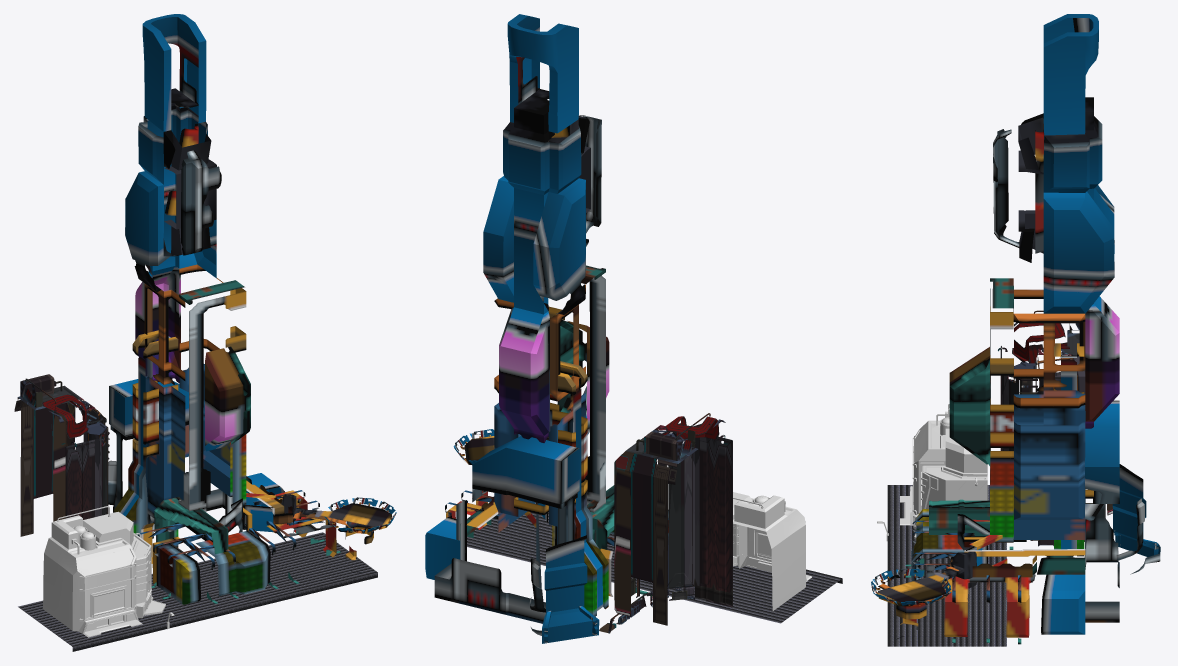
3 renders of one model, left to right at view 1: azimuth 30°, elevation 25°; view 2: azimuth 150°, elevation 25°; view 3: azimuth 270°, elevation 25°, orthographic. The views are drawn at different scales.
Visible parts, largest first — view 1: Tower, Building_01, Building_02, Ground; view 2: Tower, Building_02, Ground, Building_01; view 3: Tower, Ground, Building_01, Building_02.
Boxes of the visible parts, <box> form: Tower: <box>108,14,396,604</box>; Building_01: <box>43,506,165,637</box>; Building_02: <box>14,374,109,536</box>; Ground: <box>18,532,377,651</box>; Tower: <box>425,14,668,643</box>; Building_02: <box>599,413,732,633</box>; Ground: <box>467,503,842,623</box>; Building_01: <box>733,492,811,610</box>; Tower: <box>871,14,1160,644</box>; Ground: <box>887,485,1006,646</box>; Building_01: <box>900,404,987,539</box>; Building_02: <box>998,310,1112,546</box>.
Size of the model in its own units: 6908 by 10392 by 4902.
Materials: 4 (3 with a texture image).
